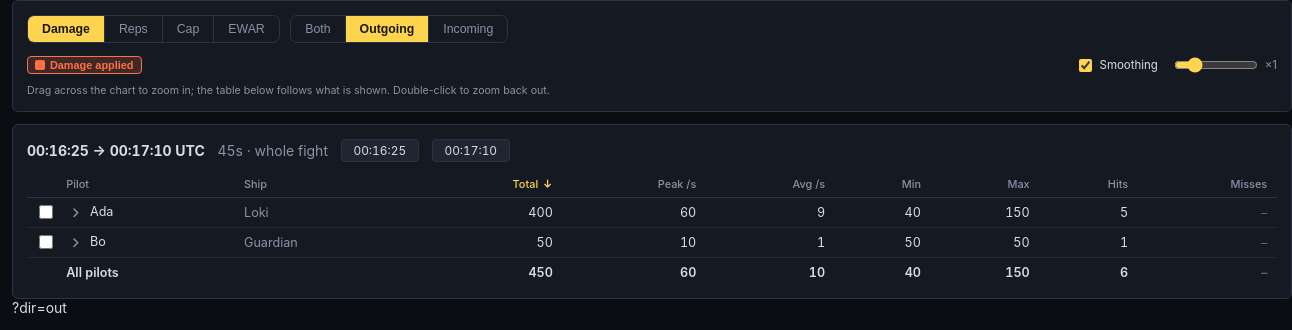
TimelineTab › switching a series chip off removes it from the table
Expected: the row with test id "stats-row-1" is shown, [27, 197, 1277, 227]
Click the button "Damage applied". click: point(84, 65)
box: [27, 56, 142, 74]
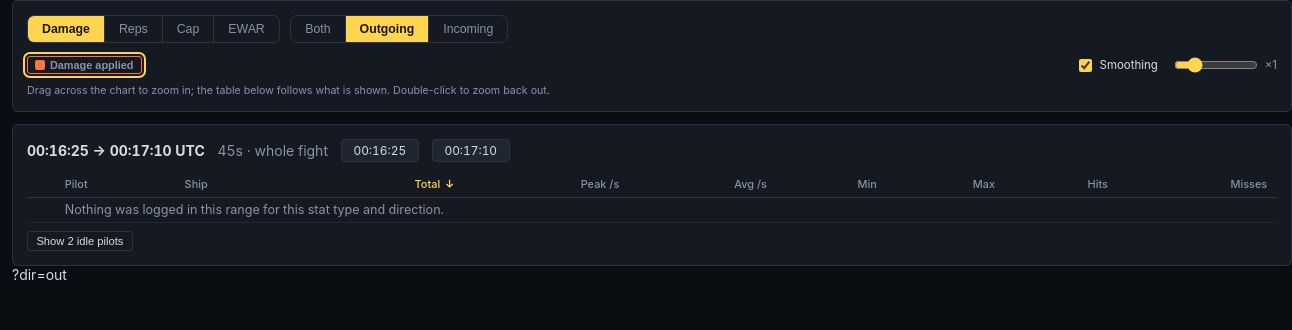
Expected: the cell with test id "stats-nothing" is shown, [55, 197, 1277, 222]
